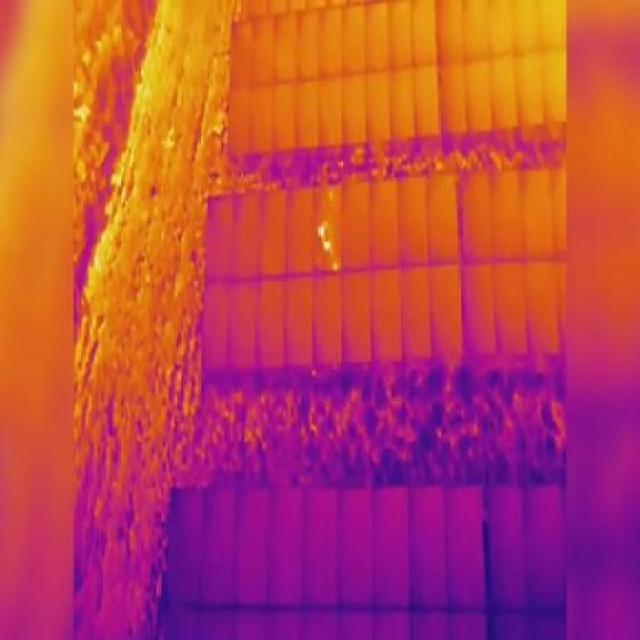hotspot: (321, 237, 332, 254), (316, 222, 326, 238), (332, 259, 338, 275)
